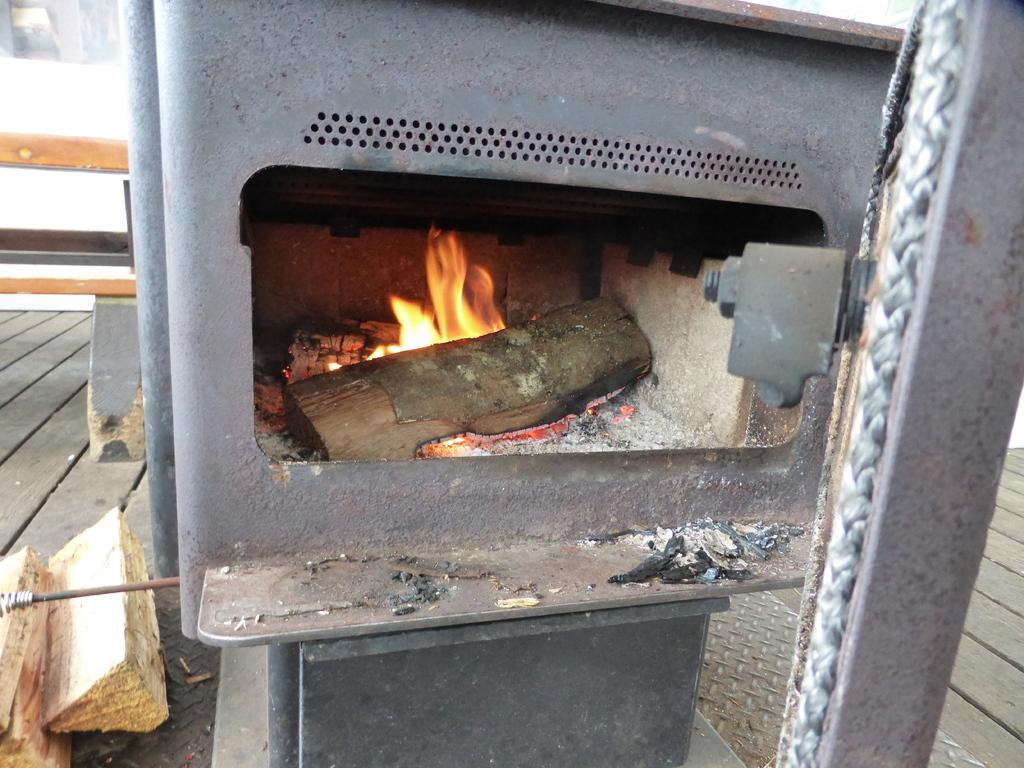Fire: (373, 235, 506, 358)
